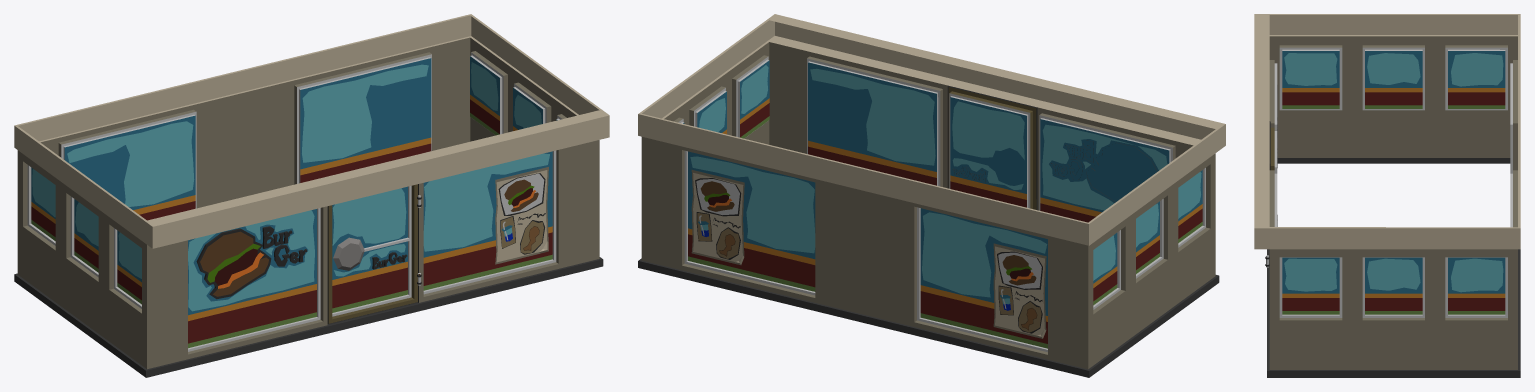
Rendered from BurGer_Shop_01.FBX.
3 views of the same model, side by side, from view 1: azimuth 30°, elevation 25°; view 2: azimuth 150°, elevation 25°; view 3: azimuth 270°, elevation 25° (orthographic). The views are drawn at different scales.
Parts seen in each view (by area): view 1: BurGer_Shop_01; view 2: BurGer_Shop_01; view 3: BurGer_Shop_01.
Part boxes in pixels (<box>): BurGer_Shop_01: <box>14,14,609,377</box>; BurGer_Shop_01: <box>638,14,1225,377</box>; BurGer_Shop_01: <box>1254,14,1520,377</box>.
Bounding box in the file's own units: 10 × 3.26 × 5.25.
